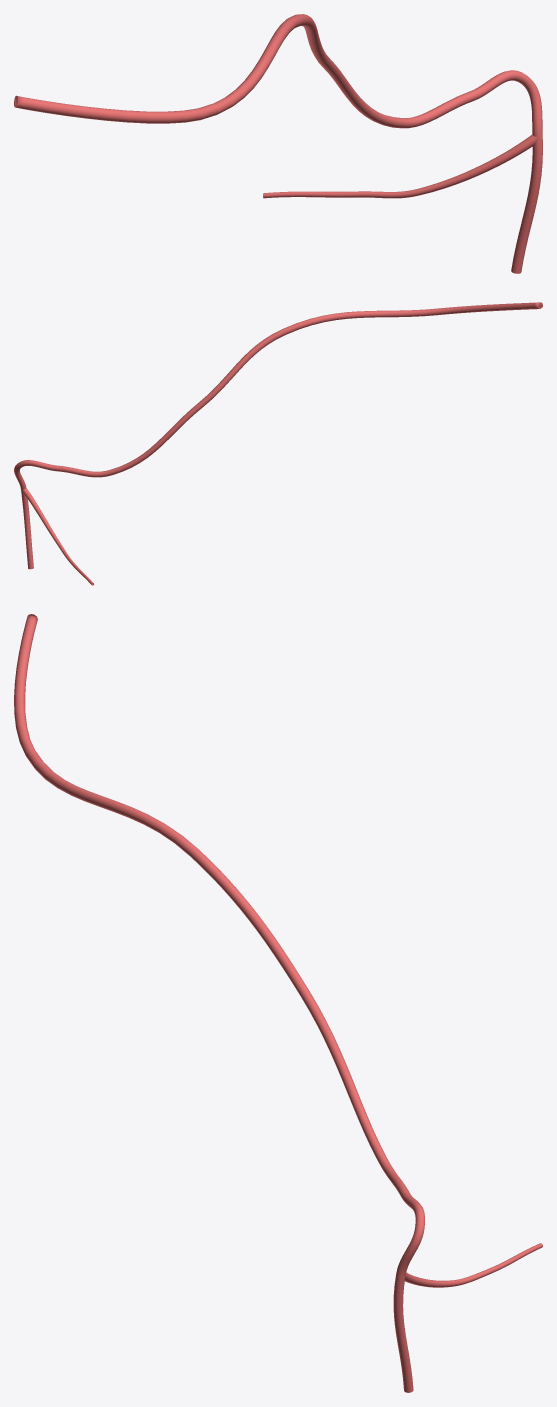
The model's file is Suprascapular_artery.l_BezierCurve.152.glb.
The picture shows the model from 3 angles, top to bottom: view 1: azimuth 30°, elevation 25°; view 2: azimuth 150°, elevation 25°; view 3: azimuth 270°, elevation 25°; orthographic projection. The views are drawn at different scales.
Visible parts, largest first — view 1: Suprascapular_artery.l_BezierCurve.152; view 2: Suprascapular_artery.l_BezierCurve.152; view 3: Suprascapular_artery.l_BezierCurve.152.
Part boxes in pixels (left/top/right/bottom): Suprascapular_artery.l_BezierCurve.152: left=14, top=14, right=542, bottom=273; Suprascapular_artery.l_BezierCurve.152: left=14, top=302, right=542, bottom=585; Suprascapular_artery.l_BezierCurve.152: left=14, top=614, right=542, bottom=1392.
Size of the model in its own units: 0.0977 by 0.0634 by 0.0661.
